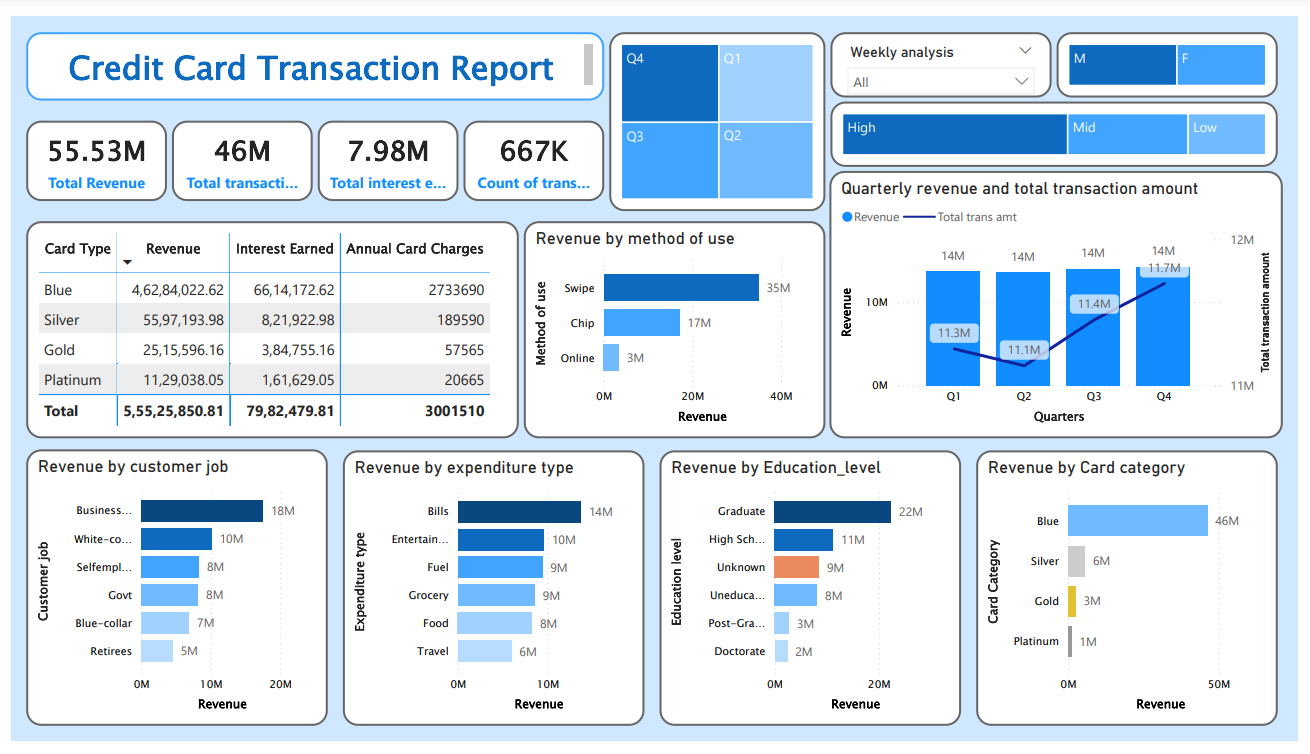

The dashboard page shown, as its layout file describes it:
{"tool":"powerbi","page":{"name":"CC_Transactions","canvas":[1280,720],"ordinal":0},"visuals":[{"type":"textbox","box":[15,15,575,68.3],"z":0},{"type":"barChart","title":"Revenue by expenditure type","fields":{"Y":["Sum(public cc_detail.Revenue)"],"Category":["public cc_detail.exp_type"]},"box":[330,430.7,300.3,274.5],"z":1000},{"type":"barChart","title":"Revenue by Card category","fields":{"Y":["Sum(public cc_detail.Revenue)"],"Category":["public cc_detail.card_category"]},"box":[960,430.7,300.3,274.5],"z":2000},{"type":"barChart","title":"Revenue by Education_level","fields":{"Y":["Sum(public cc_detail.Revenue)"],"Category":["public cust_detail.education_level"]},"box":[645,430.7,300.3,274.5],"z":3000},{"type":"barChart","title":"Revenue by method of use","fields":{"Y":["Sum(public cc_detail.Revenue)"],"Category":["public cc_detail.use_chip"]},"box":[510,203.2,300.3,215.4],"z":4000},{"type":"barChart","title":"Revenue by customer job","fields":{"Y":["Sum(public cc_detail.Revenue)"],"Category":["public cust_detail.customer_job"]},"box":[15,430,300,275],"z":5000},{"type":"lineStackedColumnComboChart","title":"Quarterly revenue and total transaction amount","fields":{"Category":["public cc_detail.qtr"],"Y2":["Sum(public cc_detail.total_trans_amt)"],"Y":["Sum(public cc_detail.Revenue)"]},"box":[814.4,153.2,450.4,265.4],"z":6000},{"type":"tableEx","fields":{"Values":["public cc_detail.card_category","Sum(public cc_detail.Revenue)","Sum(public cc_detail.interest_earned)","Sum(public cc_detail.annual_fees)"]},"box":[15.2,203.2,489.9,215.4],"z":7000},{"type":"card","fields":{"Values":["Sum(public cc_detail.Revenue)"]},"box":[15,103.3,140,80],"z":8000},{"type":"card","fields":{"Values":["Sum(public cc_detail.interest_earned)"]},"box":[305,103.3,140,80],"z":9000},{"type":"card","fields":{"Values":["Sum(public cc_detail.total_trans_amt)"]},"box":[160,103.3,140,80],"z":10000},{"type":"card","fields":{"Values":["Sum(public cc_detail.total_trans_ct)"]},"box":[450,103.3,140,80],"z":11000},{"type":"treemap","fields":{"Group":["public cc_detail.qtr"],"Values":["Sum(public cc_detail.Revenue)"]},"box":[594.5,15.2,215.4,177.4],"z":12000},{"type":"slicer","fields":{"Values":["public cc_detail.week_start_date"]},"box":[815,15.2,220,65],"z":13000},{"type":"treemap","fields":{"Group":["public cust_detail.IncomeGroup"],"Values":["Sum(public cc_detail.Revenue)"]},"box":[815,84,445,65.2],"z":14000},{"type":"treemap","fields":{"Group":["public cust_detail.gender"],"Values":["Sum(public cc_detail.Revenue)"]},"box":[1040.4,15.2,220,65],"z":15000}]}

Visuals, with their boxes in screenshot pixels (x1, y1, x2, y2), scaled from the page's 1280x720 canvas onto the 1310x754 screenshot:
textbox: box(15, 16, 604, 87)
"Revenue by expenditure type" barChart: box(338, 451, 645, 739)
"Revenue by Card category" barChart: box(982, 451, 1290, 739)
"Revenue by Education_level" barChart: box(660, 451, 967, 739)
"Revenue by method of use" barChart: box(522, 213, 829, 438)
"Revenue by customer job" barChart: box(15, 450, 322, 738)
"Quarterly revenue and total transaction amount" lineStackedColumnComboChart: box(833, 160, 1294, 438)
tableEx - public cc_detail.card_category x Sum(public cc_detail.Revenue): box(16, 213, 517, 438)
card - Sum(public cc_detail.Revenue): box(15, 108, 159, 192)
card - Sum(public cc_detail.interest_earned): box(312, 108, 455, 192)
card - Sum(public cc_detail.total_trans_amt): box(164, 108, 307, 192)
card - Sum(public cc_detail.total_trans_ct): box(461, 108, 604, 192)
treemap - public cc_detail.qtr x Sum(public cc_detail.Revenue): box(608, 16, 829, 202)
slicer - public cc_detail.week_start_date: box(834, 16, 1059, 84)
treemap - public cust_detail.IncomeGroup x Sum(public cc_detail.Revenue): box(834, 88, 1290, 156)
treemap - public cust_detail.gender x Sum(public cc_detail.Revenue): box(1065, 16, 1290, 84)
